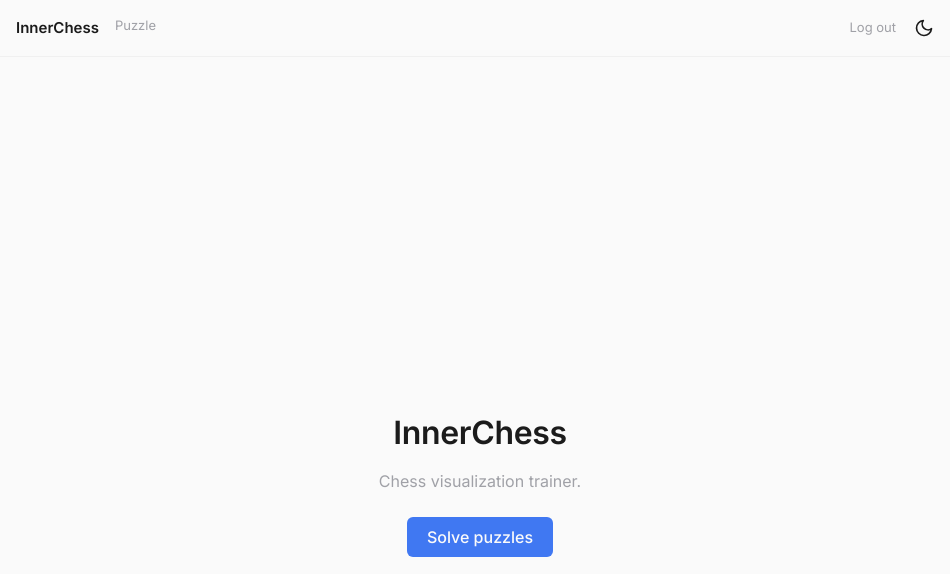
Test: AppRouter › navigates between routes via the header links when authenticated
Step 1. Click the link "Puzzle" → (135, 28), box [115,16,156,40]
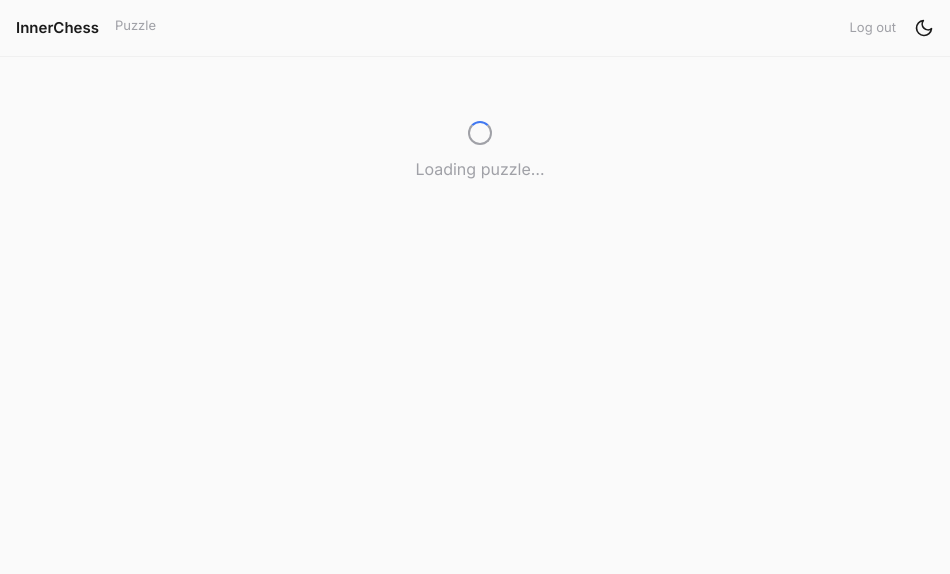
Result: the message "Loading puzzle…" is shown at [415,121,545,179]
Step 2. Click the link "InnerChess" → (57, 28), box [16,17,99,39]
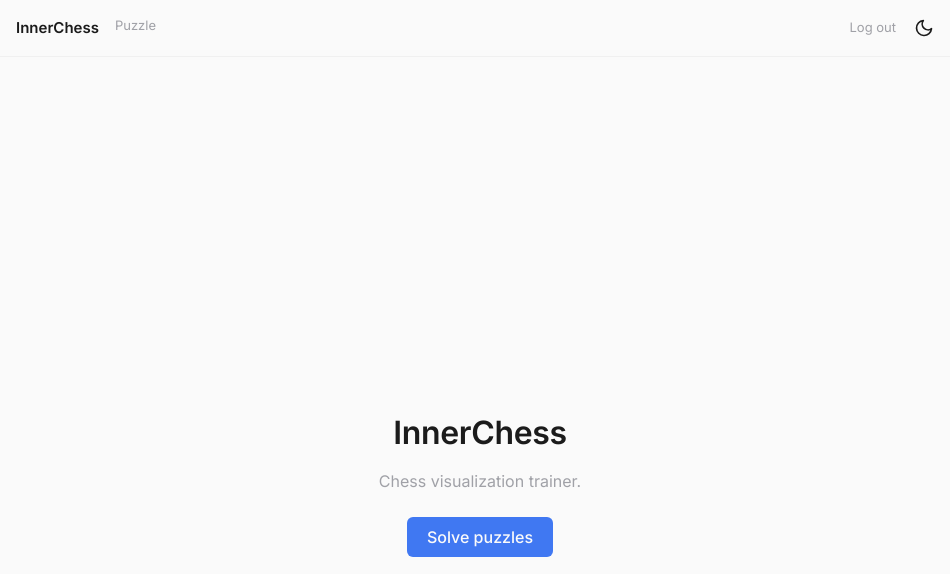
Result: the heading "InnerChess" is shown at [393,409,567,457]
